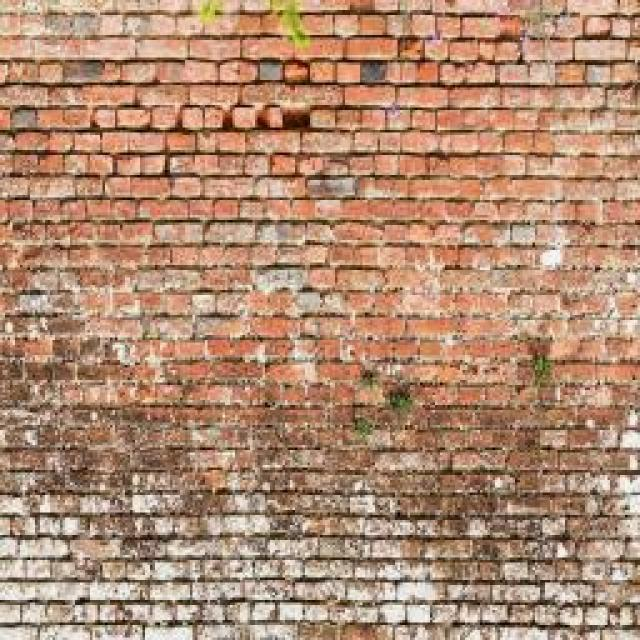crack: (4, 30, 141, 632)
vegetation: (257, 456, 491, 630), (94, 437, 299, 629), (142, 396, 338, 528), (190, 0, 326, 126), (524, 451, 629, 594), (548, 293, 640, 409), (545, 188, 637, 281), (389, 1, 453, 124), (344, 451, 478, 503), (391, 247, 463, 316), (352, 371, 419, 443), (520, 343, 572, 399), (521, 0, 572, 54), (380, 15, 398, 145), (270, 1, 311, 51), (491, 9, 530, 59), (397, 1, 429, 54), (491, 222, 549, 251), (304, 170, 358, 199), (539, 227, 570, 270), (177, 103, 219, 133), (352, 375, 387, 409), (286, 358, 323, 389), (287, 336, 322, 366), (16, 289, 56, 314), (199, 467, 233, 494), (197, 0, 223, 26), (353, 417, 376, 439)
